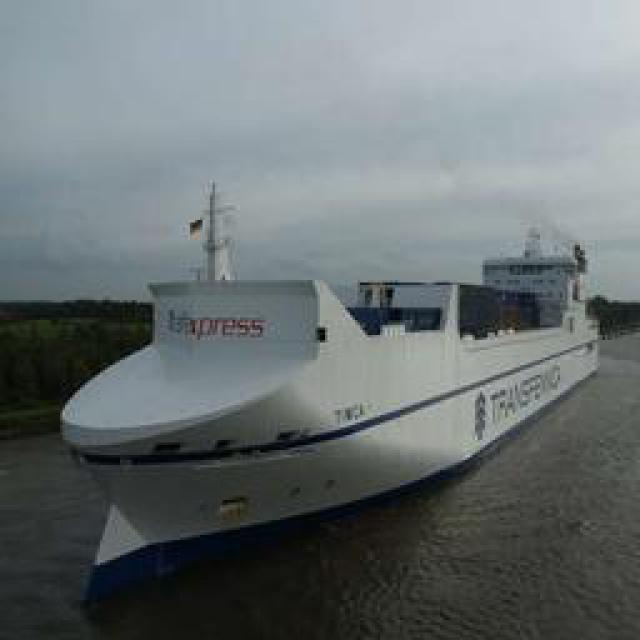Ship: (57, 216, 605, 586)
